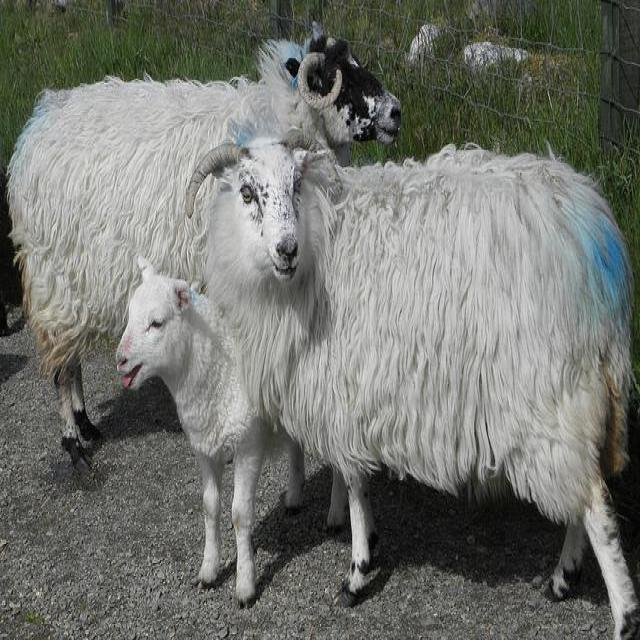Sheep: (184, 124, 638, 515), (13, 35, 402, 461), (115, 268, 307, 612)
